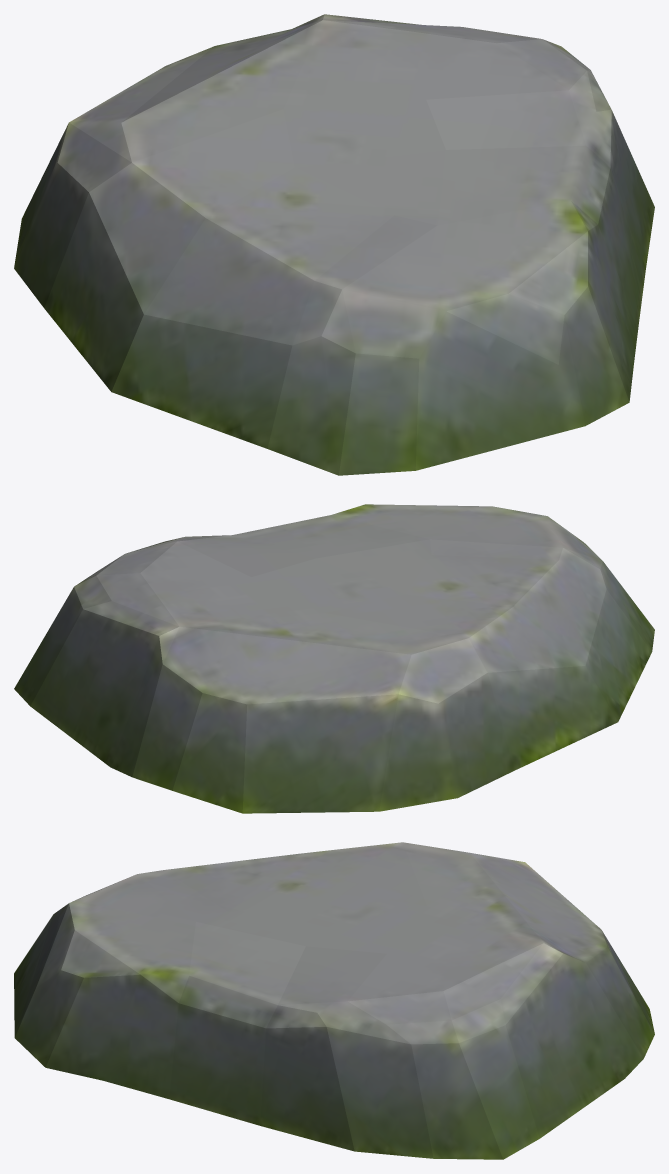
Rendered from pebble_round_4.gltf.
3 renders of one model, top to bottom at view 1: azimuth 30°, elevation 25°; view 2: azimuth 150°, elevation 25°; view 3: azimuth 270°, elevation 25°, orthographic. The views are drawn at different scales.
Parts seen in each view (by area): view 1: Pebble_Round_4; view 2: Pebble_Round_4; view 3: Pebble_Round_4.
Boxes of the visible parts, box(x1,y1,x2,y2) form: Pebble_Round_4: box(14, 14, 654, 475); Pebble_Round_4: box(14, 504, 654, 813); Pebble_Round_4: box(14, 842, 654, 1159).
Bounding box in the file's own units: 0.4063 × 0.0994 × 0.4524.
1 material, 1 textured.
